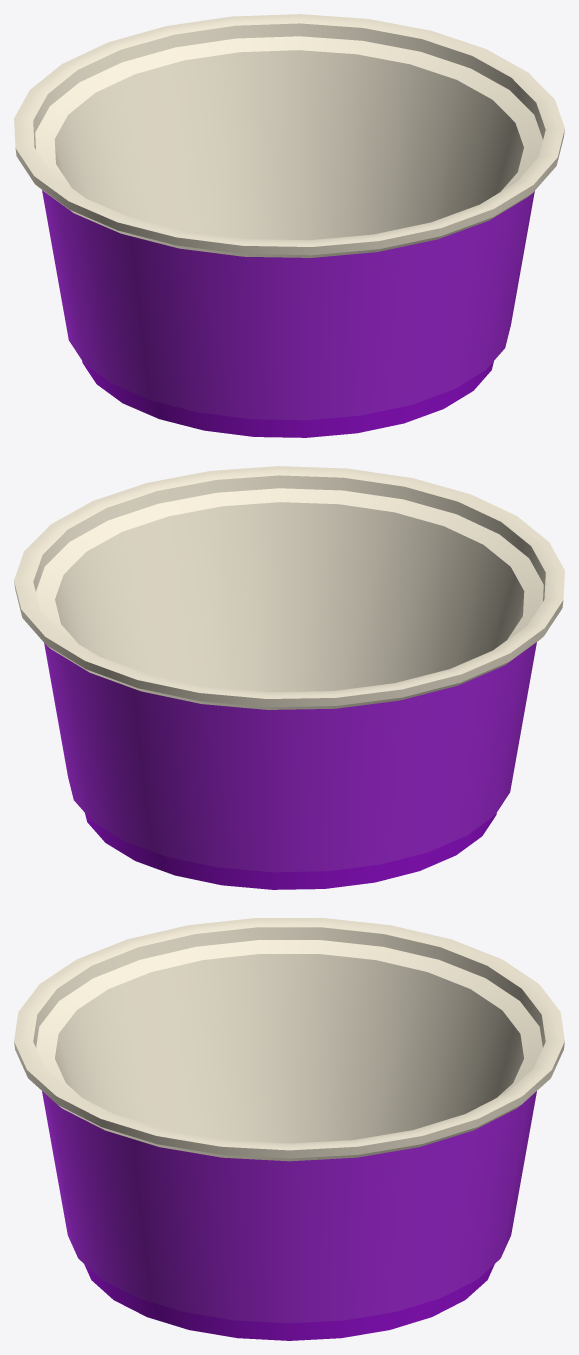
File: Cup M Purple.fbx
3 views of the same model, one above another, from view 1: azimuth 30°, elevation 25°; view 2: azimuth 150°, elevation 25°; view 3: azimuth 270°, elevation 25° (orthographic).
Parts seen in each view (by area): view 1: Cup M Purple; view 2: Cup M Purple; view 3: Cup M Purple.
Boxes of the visible parts, x1,y1,x2,y2 form: Cup M Purple: (14,14,564,437); Cup M Purple: (14,466,564,889); Cup M Purple: (14,918,564,1340).
Size of the model in its own units: 0.9488 by 0.4176 by 0.9507.
